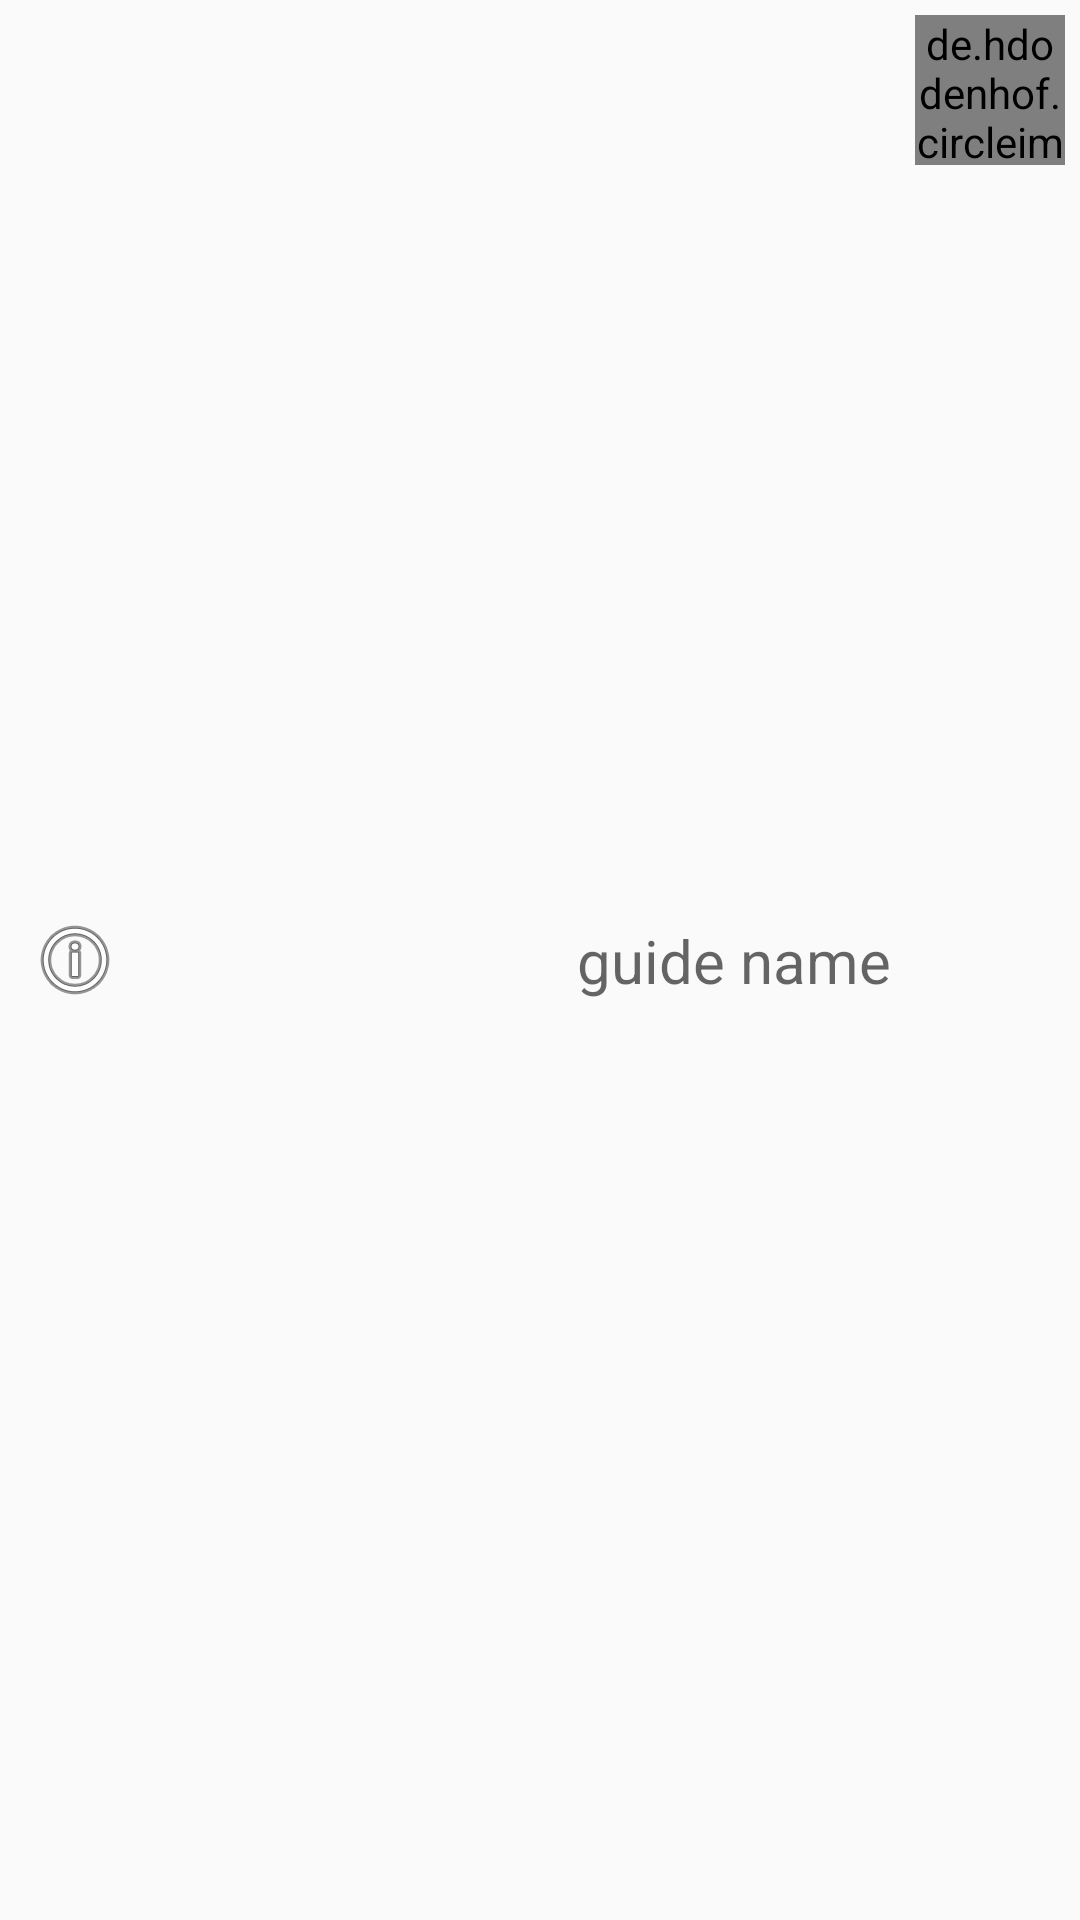

Icon bounding boxes for this 1080px x 1920px phone screenshot, format bbox=[x1, y1, x2, y2]:
info details: bbox=[40, 925, 110, 995]
